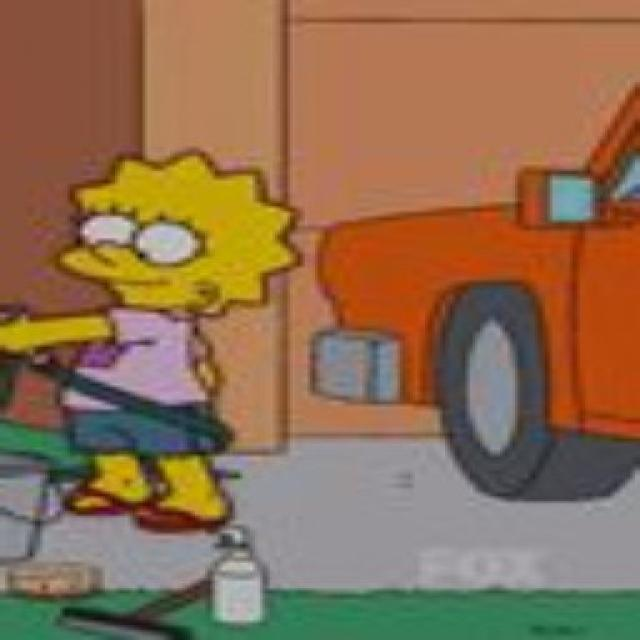Lisa Simpson: (55, 150, 305, 322)
